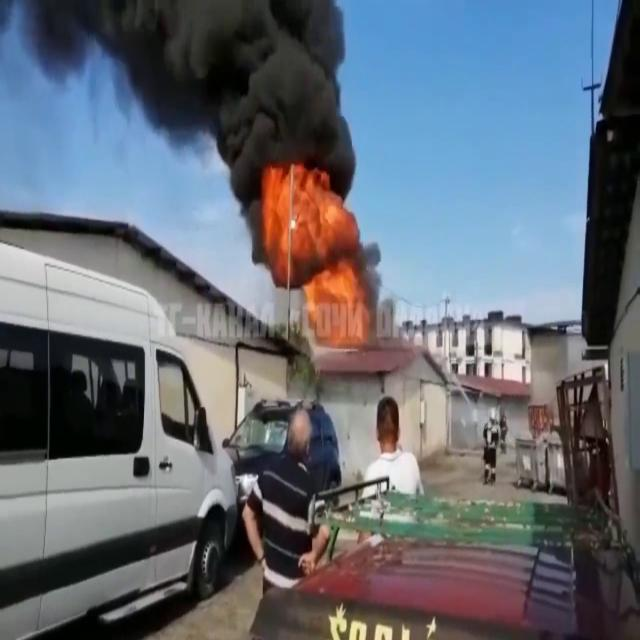Fire: (264, 167, 382, 345)
Smoke: (40, 0, 356, 218)
